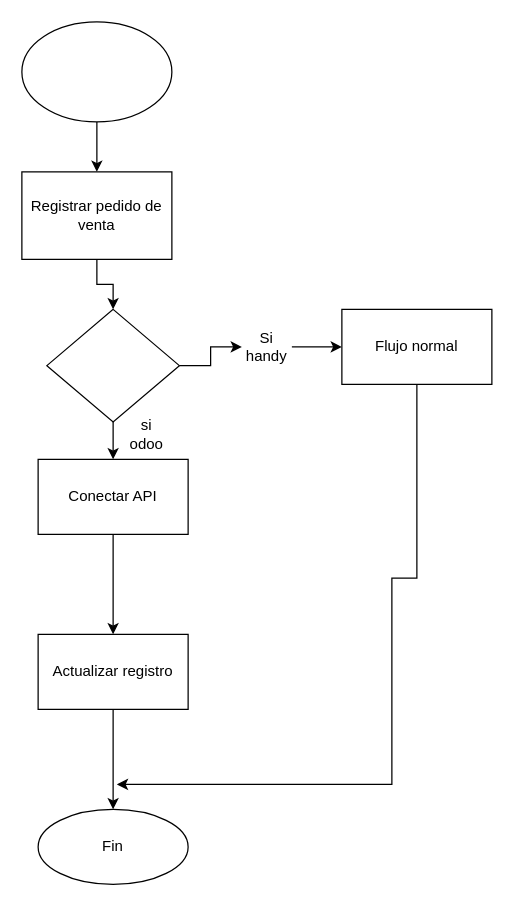
The diagram is 514 pixels wide and 906 high, and some of its shapes have lost their labels. The centre of each missing label's shape, as x and y in pixels:
Inicio: the point at 96,71
¿De quien es el pedido?: the point at 112,365
